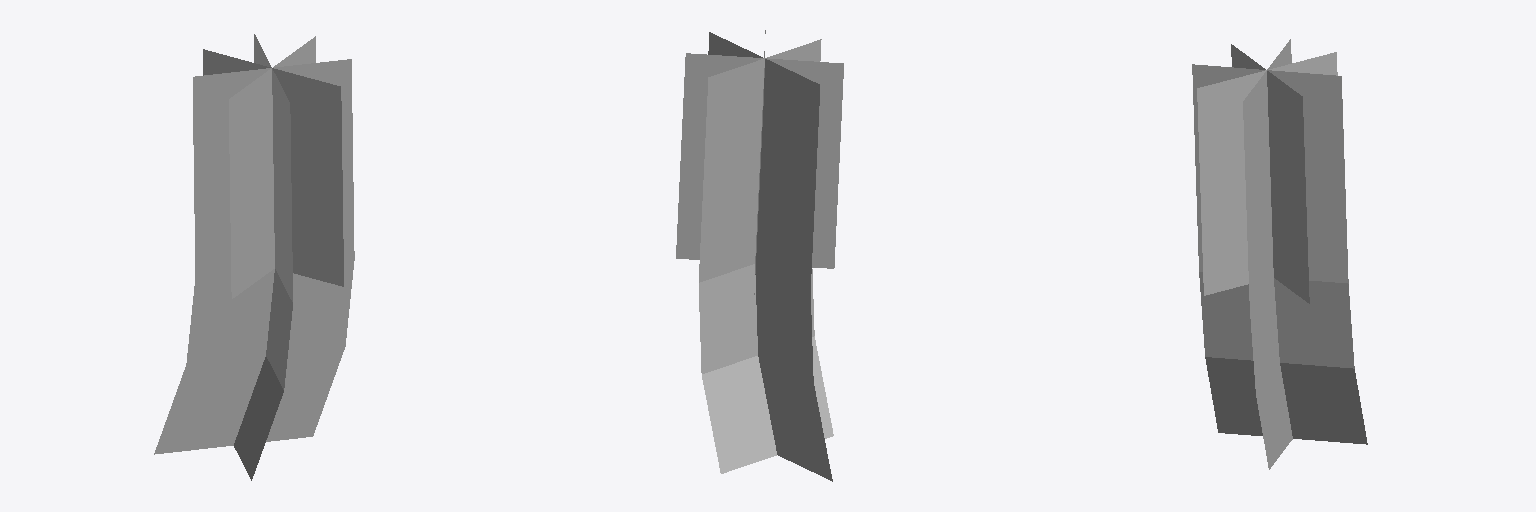
Rendered from stg600_obj_planterA_bp4.obj.
3 renders of one model, left to right at view 1: azimuth 30°, elevation 25°; view 2: azimuth 150°, elevation 25°; view 3: azimuth 270°, elevation 25°, orthographic.
Visible parts, largest first — view 1: polygon0; view 2: polygon0; view 3: polygon0.
Boxes of the visible parts, x1=… form: polygon0: x1=154, y1=34, x2=354, y2=480; polygon0: x1=676, y1=30, x2=843, y2=481; polygon0: x1=1192, y1=39, x2=1367, y2=469.
Bounding box in the file's own units: 4.65 × 10.32 × 4.24.